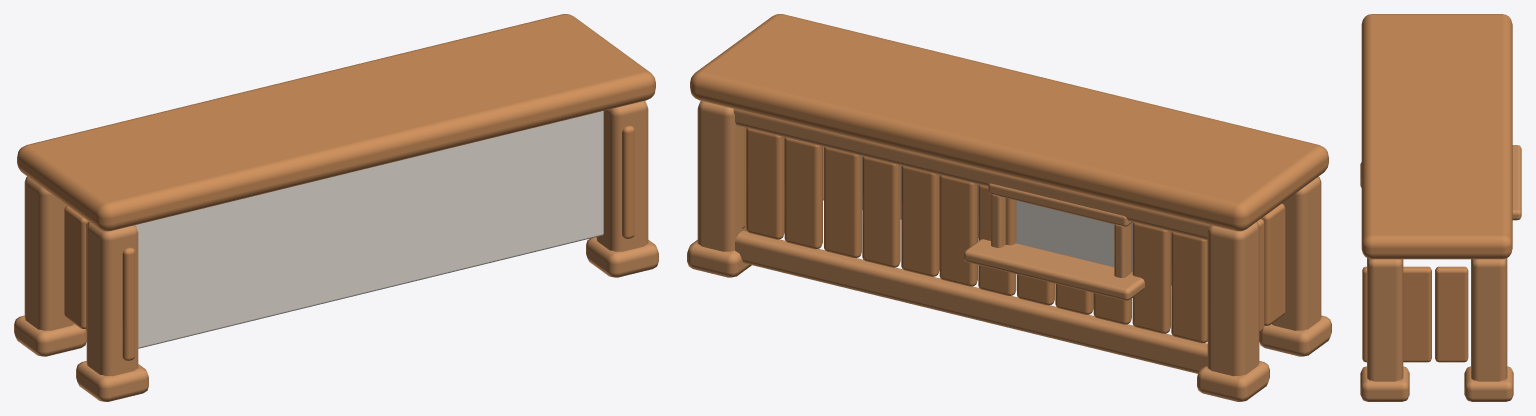
File: PROP_SELL_COUNTER.glb
The picture shows the model from 3 angles, left to right: view 1: azimuth 30°, elevation 25°; view 2: azimuth 150°, elevation 25°; view 3: azimuth 270°, elevation 25°; orthographic projection. The views are drawn at different scales.
Visible parts, largest first — view 1: top, back_panel, frame, planks; view 2: top, frame, planks, back_panel; view 3: top, frame, planks.
Part boxes in pixels (x1,y1,x2,y2): top: (17,14,655,231); back_panel: (135,111,603,348); frame: (14,101,658,401); planks: (64,125,634,360); top: (690,14,1328,231); frame: (687,101,1331,401); planks: (741,127,1285,343); back_panel: (823,146,1171,285); top: (1361,14,1512,259); frame: (1360,145,1521,401); planks: (1362,266,1468,362).
Bounding box in the file's own units: 10.45 × 3.5 × 3.1.
